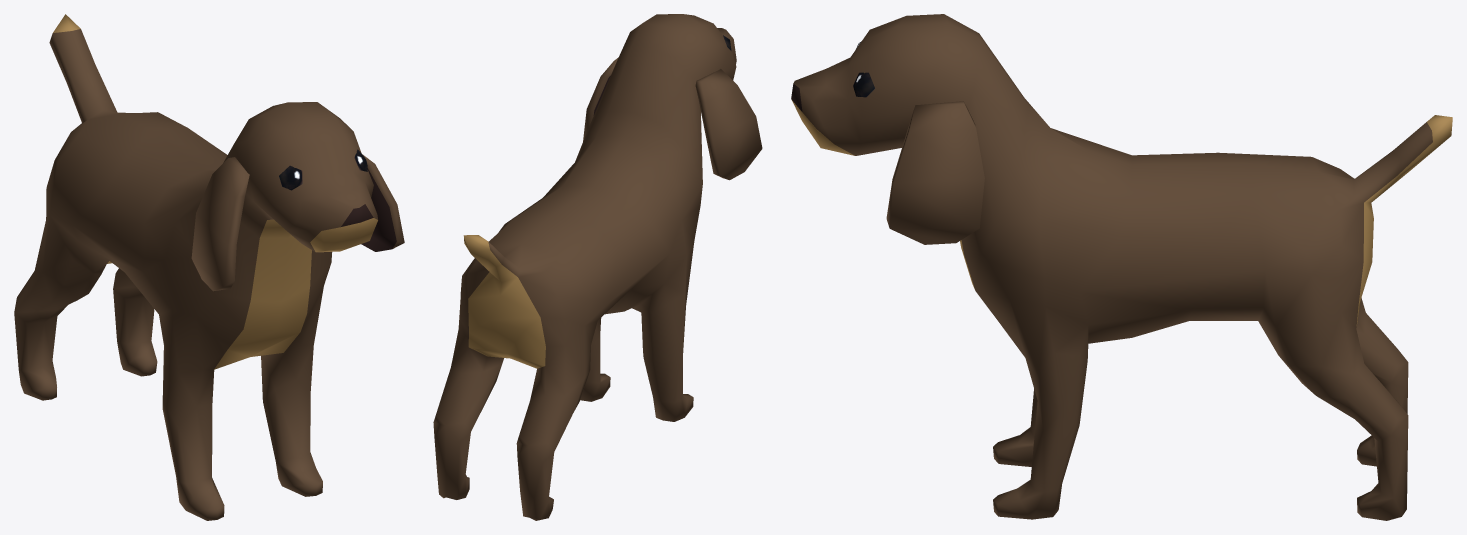
Rendered from Dog.glb.
3 renders of one model, left to right at view 1: azimuth 30°, elevation 25°; view 2: azimuth 150°, elevation 25°; view 3: azimuth 270°, elevation 25°, orthographic. The views are drawn at different scales.
Visible parts, largest first — view 1: Dog; view 2: Dog; view 3: Dog.
Part boxes in pixels (x1,y1,x2,y2): Dog: (14,14,404,520); Dog: (433,14,762,520); Dog: (791,14,1452,520).
Size of what is drawn, in the model's own units: 0.3377 by 0.7546 by 0.9751.
Materials: 1 (1 with a texture image).
